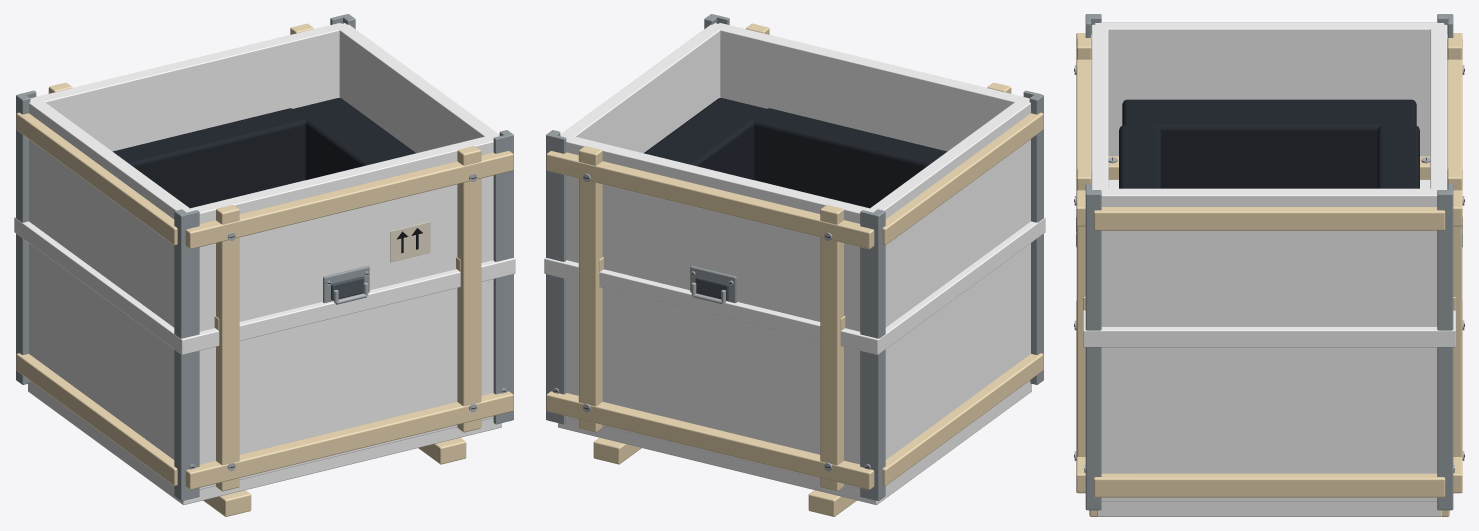
The model's file is crate-v2.glb.
The picture shows the model from 3 angles, left to right: view 1: azimuth 30°, elevation 25°; view 2: azimuth 150°, elevation 25°; view 3: azimuth 270°, elevation 25°; orthographic projection. The views are drawn at different scales.
Parts seen in each view (by area): view 1: Plywood face (×2), Pine framing, Packing foam, Galvanised fittings, Label, Brushed steel; view 2: Plywood face (×2), Pine framing, Packing foam, Galvanised fittings, Brushed steel; view 3: Plywood face (×2), Pine framing (×2), Packing foam, Galvanised fittings.
Boxes of the visible parts, left/top/right/bottom form: Plywood face (×2): left=14, top=23, right=515, bottom=505; Pine framing: left=16, top=23, right=513, bottom=516; Packing foam: left=112, top=98, right=415, bottom=208; Galvanised fittings: left=16, top=14, right=513, bottom=500; Label: left=390, top=221, right=430, bottom=262; Brushed steel: left=189, top=173, right=507, bottom=471; Plywood face (×2): left=544, top=23, right=1045, bottom=505; Pine framing: left=546, top=23, right=1043, bottom=516; Packing foam: left=644, top=98, right=947, bottom=208; Galvanised fittings: left=546, top=14, right=1043, bottom=500; Brushed steel: left=552, top=173, right=870, bottom=471; Plywood face (×2): left=1083, top=22, right=1455, bottom=516; Pine framing (×2): left=1076, top=33, right=1462, bottom=516; Packing foam: left=1119, top=99, right=1419, bottom=188; Galvanised fittings: left=1085, top=14, right=1453, bottom=510.
Size of the model in its own units: 2.05 by 1.82 by 1.84.
